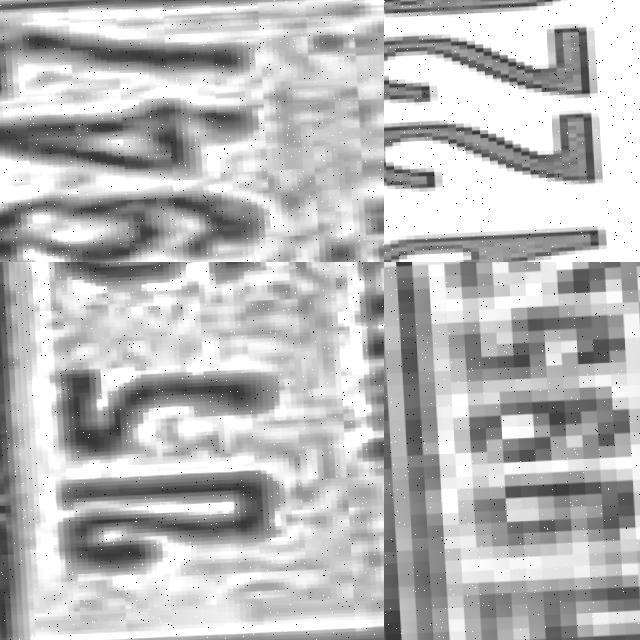license-plate: (0, 262, 384, 640), (0, 0, 384, 262), (384, 262, 640, 640), (384, 0, 640, 262)
